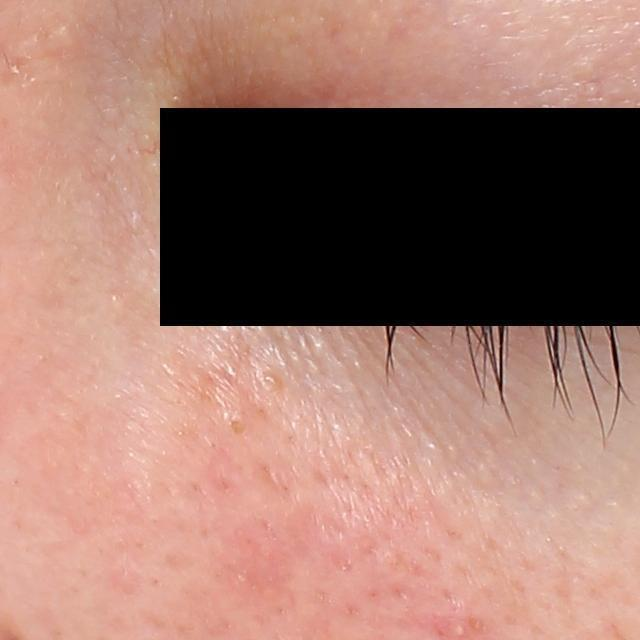comedo: (228, 414, 249, 438)
